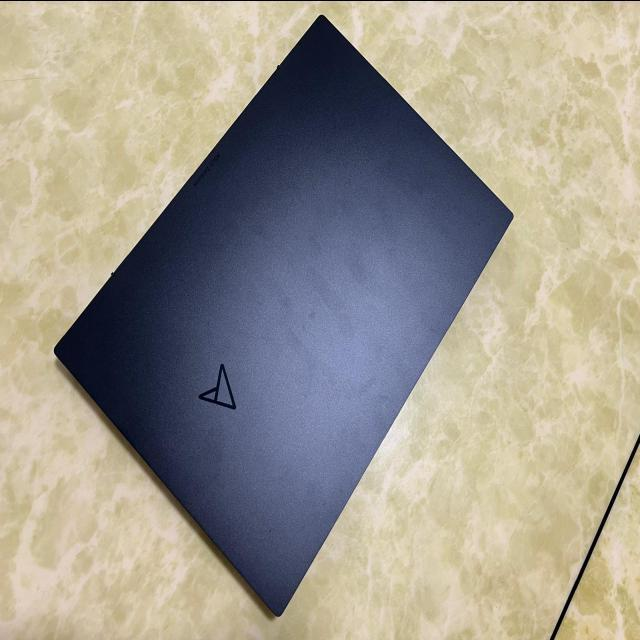laptop: (52, 13, 514, 618)
